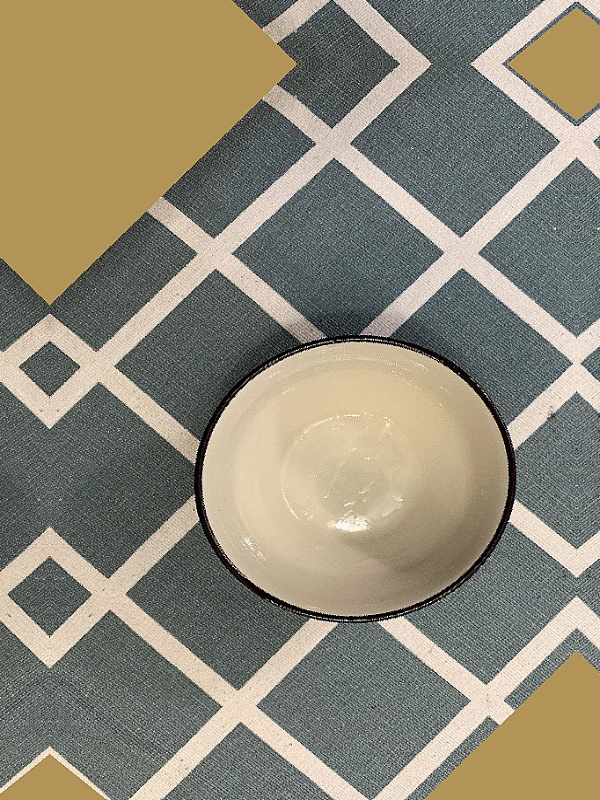bowl_small: (113, 263, 596, 691)
